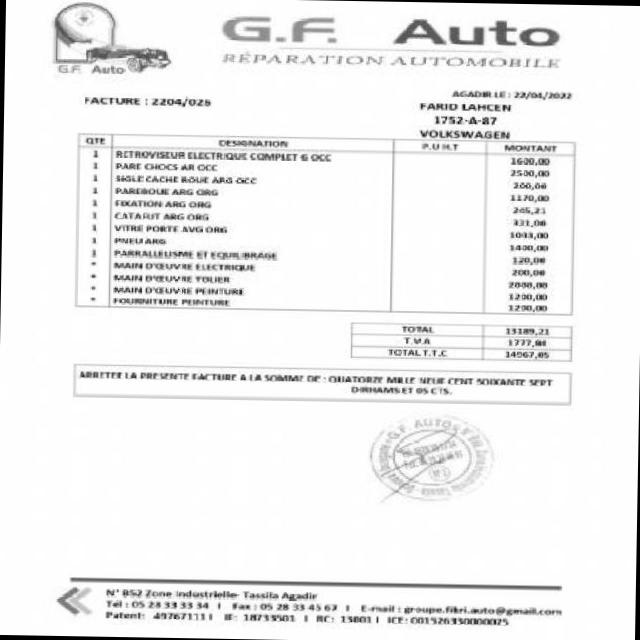customer_address: (218, 9, 567, 78)
invoice_number: (148, 92, 215, 110)
invoice_subtotal: (502, 323, 552, 338)
invoice_total: (502, 347, 552, 362)
item_description: (106, 144, 343, 312)
item_quantity: (83, 144, 104, 304)
item_total_price: (498, 155, 561, 314)
tax_amount: (504, 336, 552, 349)
